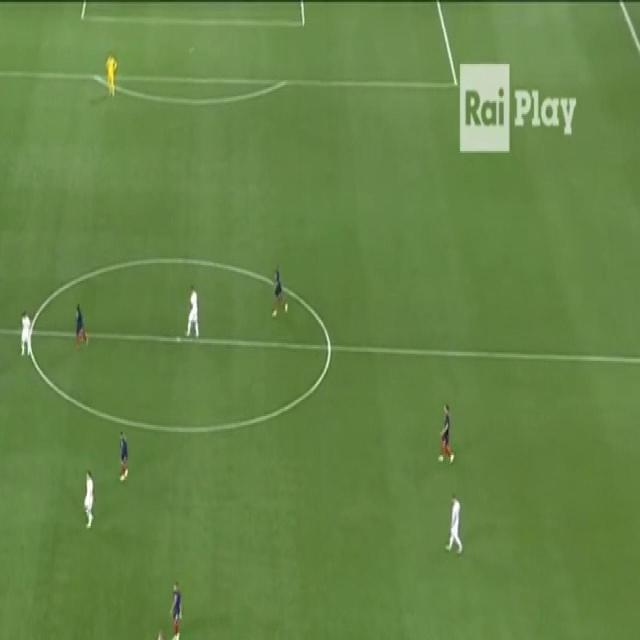player-white: (443, 493, 465, 557), (437, 401, 456, 465), (166, 577, 184, 640), (270, 267, 290, 321), (184, 280, 201, 342), (72, 302, 90, 354), (115, 428, 130, 488), (83, 470, 96, 532), (102, 51, 118, 101), (18, 308, 32, 362), (152, 625, 168, 640)
